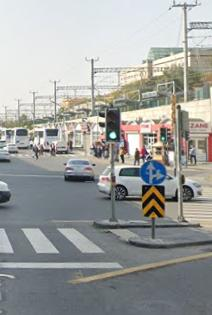greenlight: (105, 108, 121, 143), (159, 127, 167, 142)
